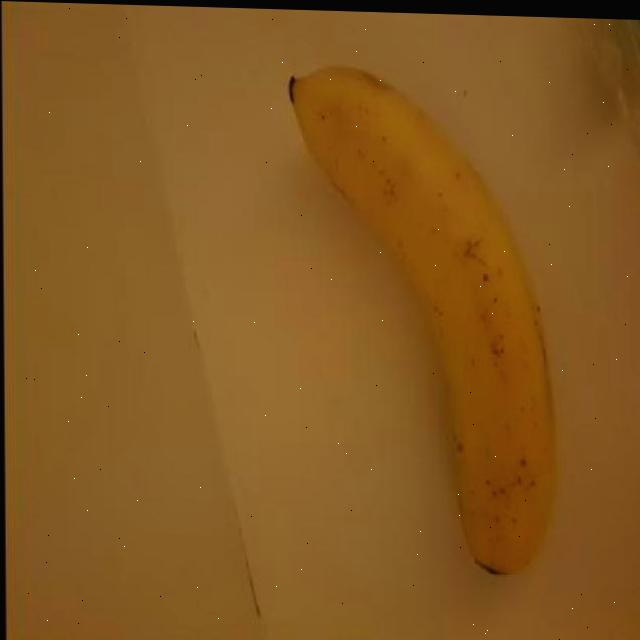banana: (282, 57, 563, 585)
